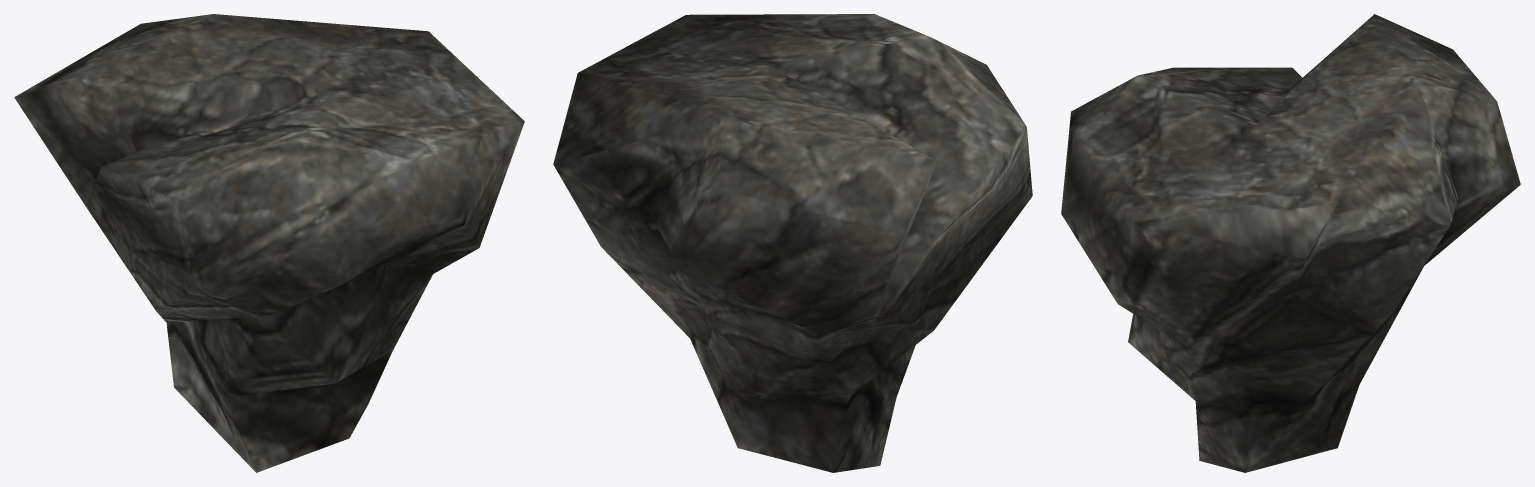
The model's file is Stal9B_LOD1.fbx.
3 renders of one model, left to right at view 1: azimuth 30°, elevation 25°; view 2: azimuth 150°, elevation 25°; view 3: azimuth 270°, elevation 25°, orthographic. The views are drawn at different scales.
Parts seen in each view (by area): view 1: polySurface19; view 2: polySurface19; view 3: polySurface19.
Part boxes in pixels (<box>): polySurface19: <box>14,14,524,472</box>; polySurface19: <box>553,14,1032,472</box>; polySurface19: <box>1061,14,1520,472</box>.
Size of the model in its own units: 4.49 by 4.38 by 4.75.
